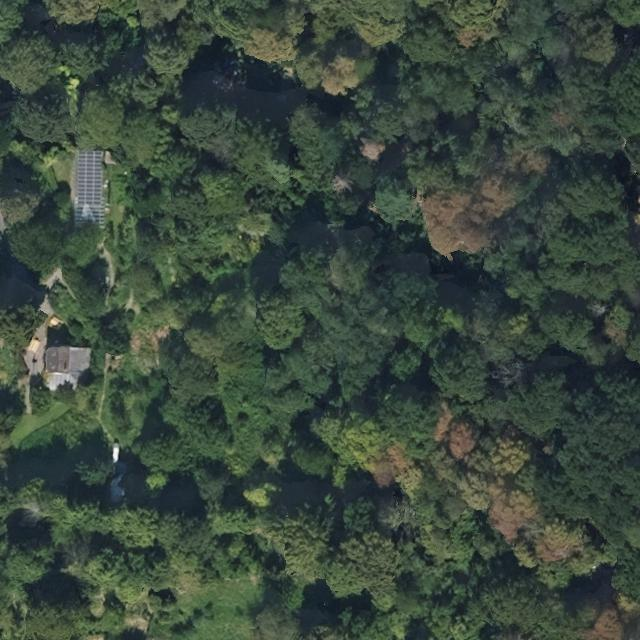PV: (75, 149, 106, 209)
